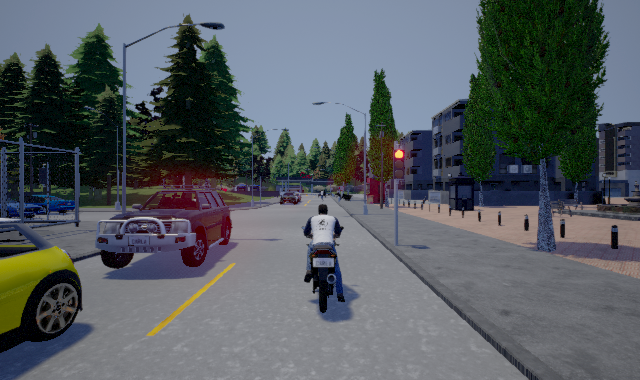traffic_light: (393, 144, 404, 185)
vehicle: (1, 199, 83, 353), (95, 185, 233, 269), (300, 204, 347, 315)
